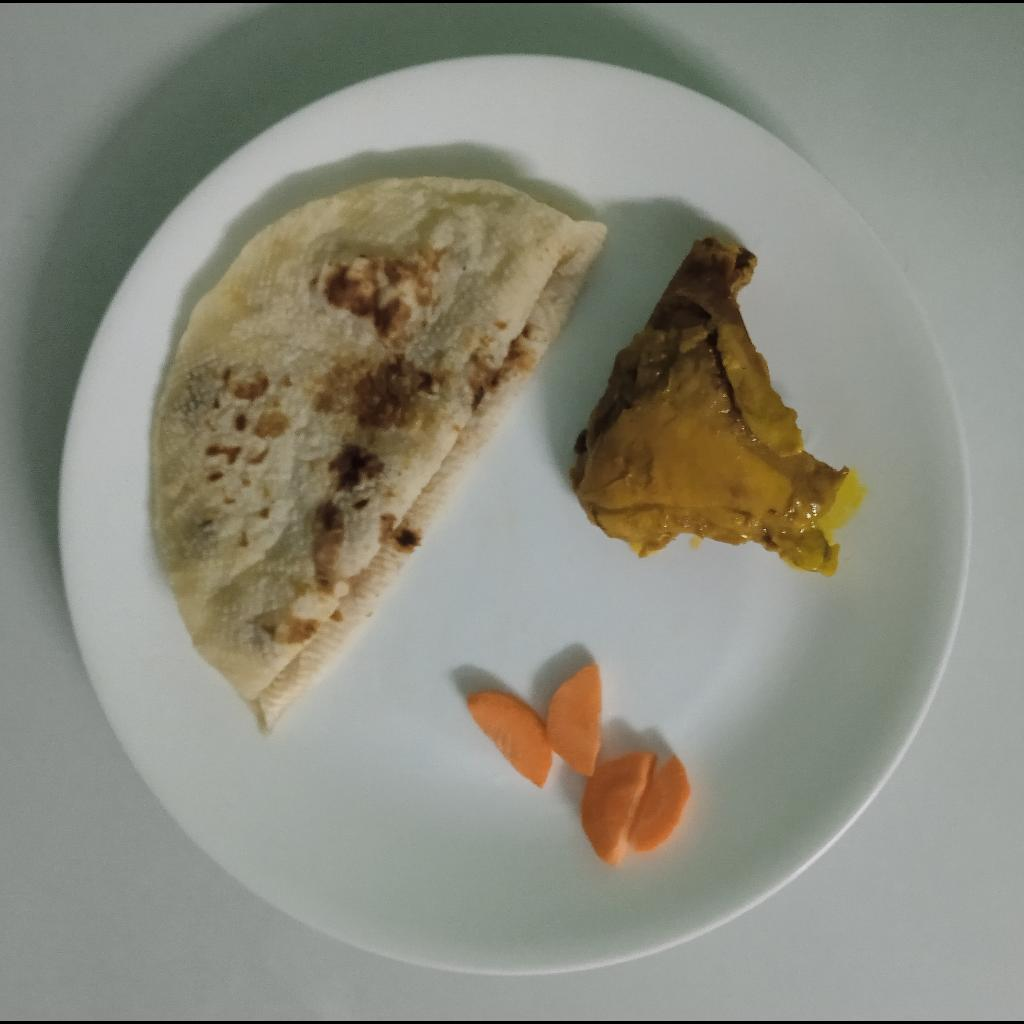carrot: (467, 659, 692, 874)
chicken: (571, 239, 853, 581)
ruti: (151, 176, 603, 737)
